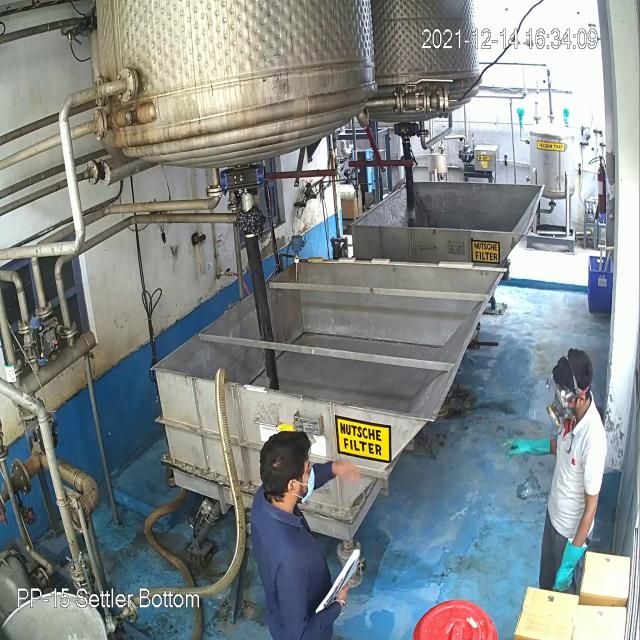gloves: (506, 431, 554, 464)
